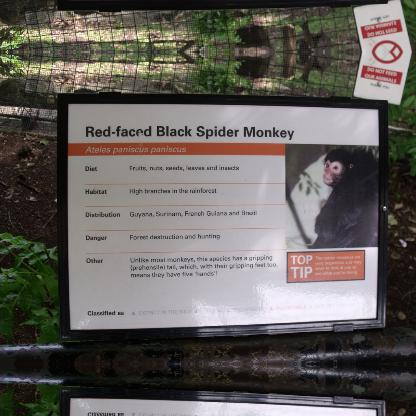Monkey: (312, 150, 378, 246)
